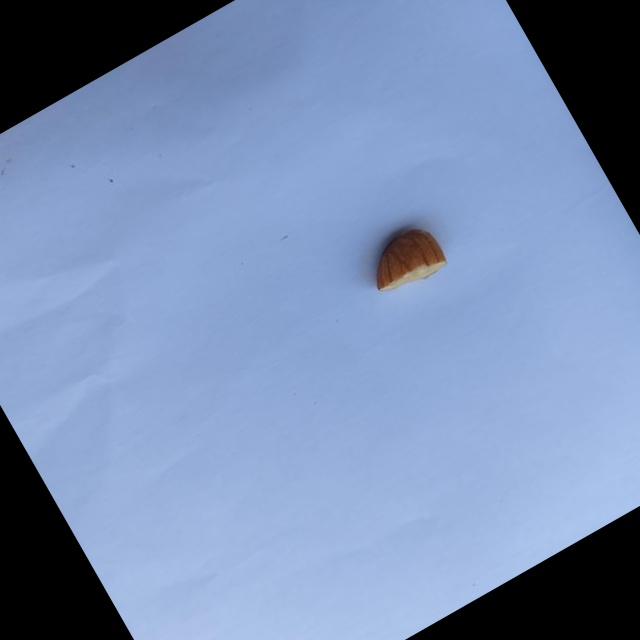grade4: (349, 210, 459, 310)
